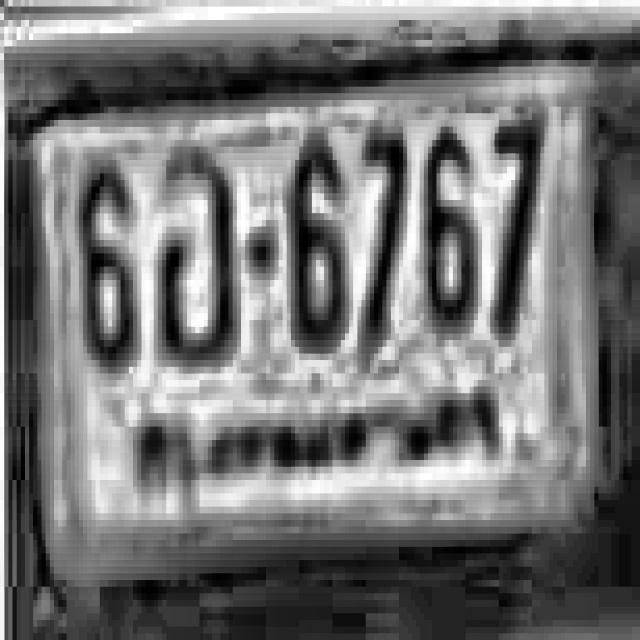license-plate: (27, 71, 624, 589)
